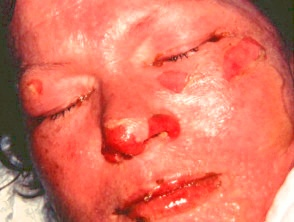SJS-TEN: (103, 163, 232, 222), (94, 107, 189, 167), (207, 25, 276, 89), (154, 59, 200, 104)
